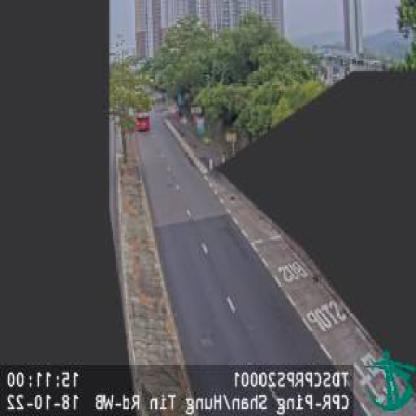Bus: (135, 106, 151, 132)
